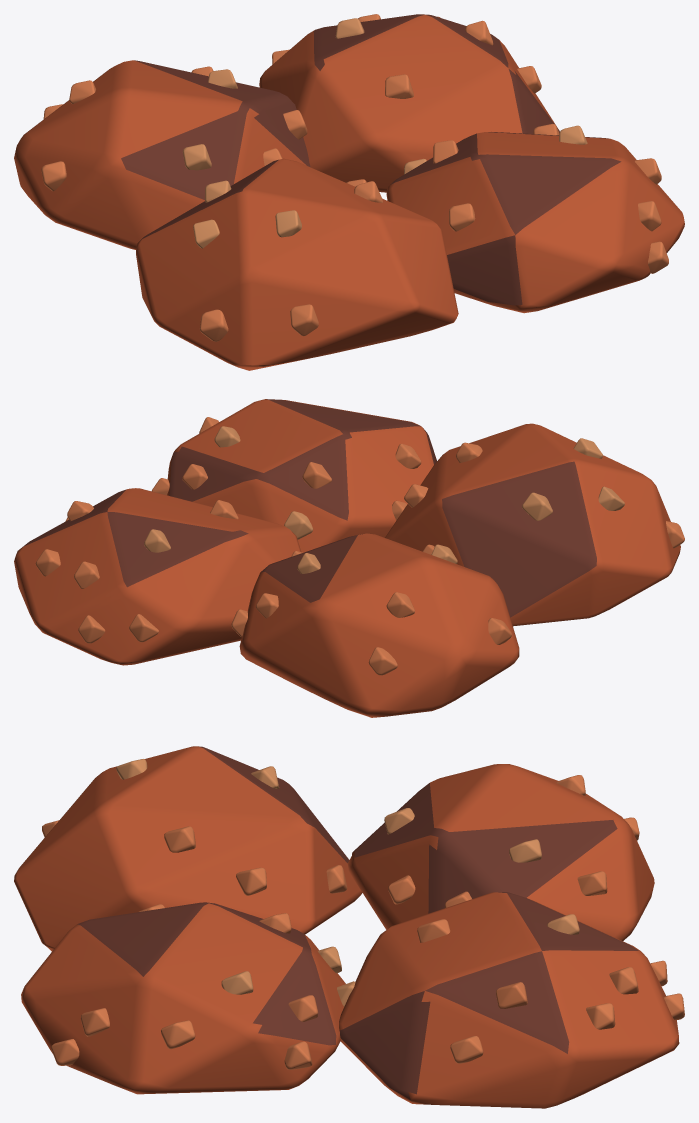
File: minerai_bauxite_1.glb
The picture shows the model from 3 angles, top to bottom: view 1: azimuth 30°, elevation 25°; view 2: azimuth 150°, elevation 25°; view 3: azimuth 270°, elevation 25°; orthographic projection. The views are drawn at different scales.
Parts seen in each view (by area): view 1: minerai_bauxite.004, minerai_brique_sombre.004, minerai_bauxite_clair.004, minerai_gres_clair.004; view 2: minerai_bauxite.004, minerai_brique_sombre.004, minerai_bauxite_clair.004, minerai_gres_clair.004; view 3: minerai_bauxite.004, minerai_brique_sombre.004, minerai_bauxite_clair.004, minerai_gres_clair.004.
Part boxes in pixels (bbox=[...]): minerai_bauxite.004: bbox=[14, 14, 684, 370]; minerai_brique_sombre.004: bbox=[121, 14, 621, 305]; minerai_bauxite_clair.004: bbox=[41, 14, 668, 341]; minerai_gres_clair.004: bbox=[182, 18, 587, 248]; minerai_bauxite.004: bbox=[14, 399, 680, 717]; minerai_brique_sombre.004: bbox=[19, 399, 596, 617]; minerai_bauxite_clair.004: bbox=[35, 417, 684, 675]; minerai_gres_clair.004: bbox=[144, 426, 624, 573]; minerai_bauxite.004: bbox=[14, 746, 679, 1108]; minerai_brique_sombre.004: bbox=[77, 746, 638, 1099]; minerai_bauxite_clair.004: bbox=[42, 775, 684, 1069]; minerai_gres_clair.004: bbox=[116, 759, 579, 1006].
Size of the model in its own units: 0.543 by 0.125 by 0.5526.
